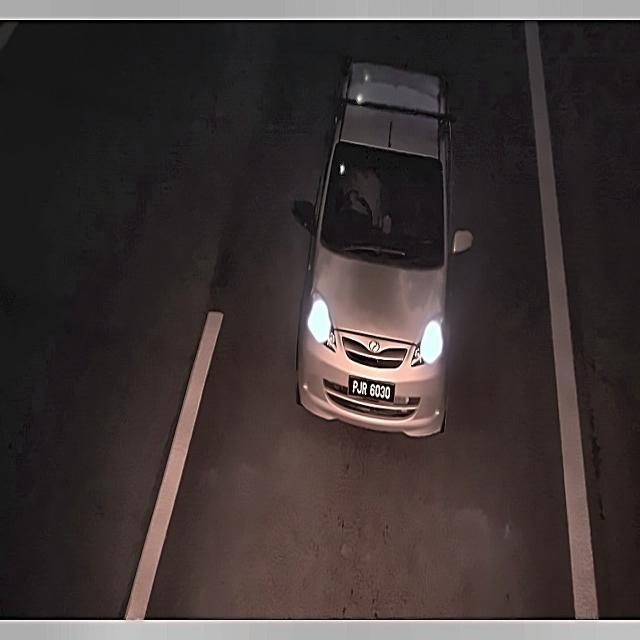car: (342, 364, 398, 412)
